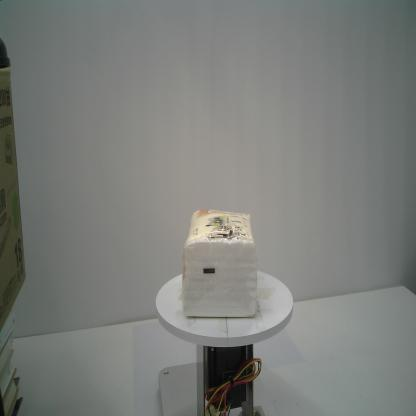Tissue: (182, 208, 258, 318)
